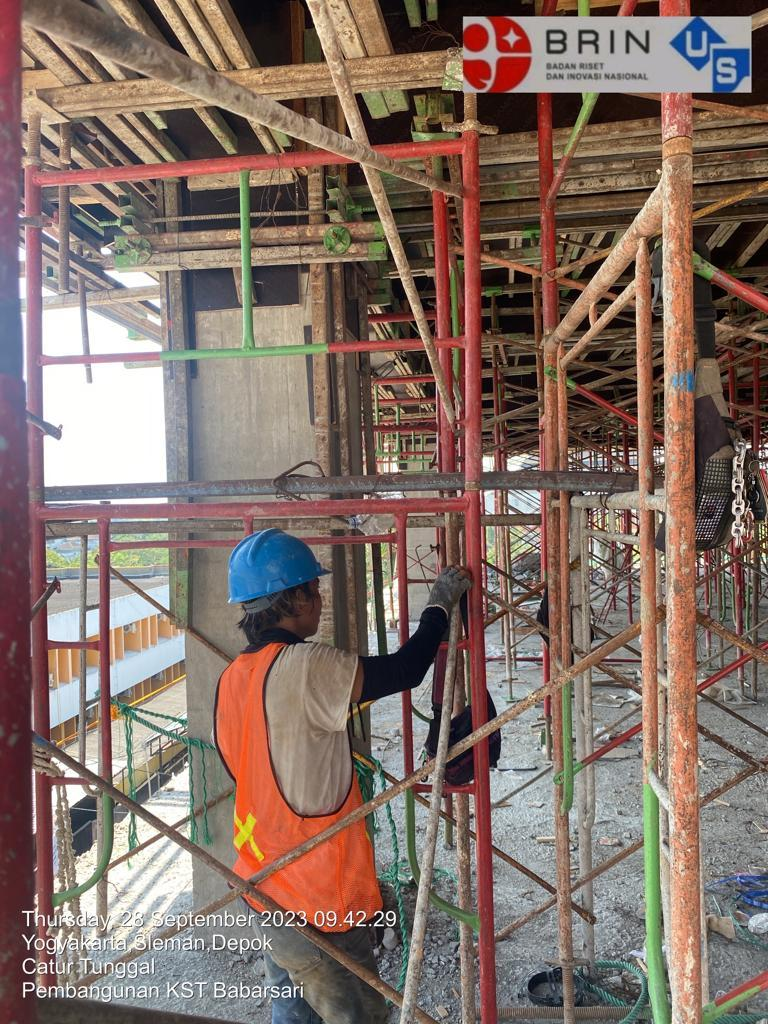hat: (206, 521, 346, 639)
vest: (176, 616, 401, 936)
